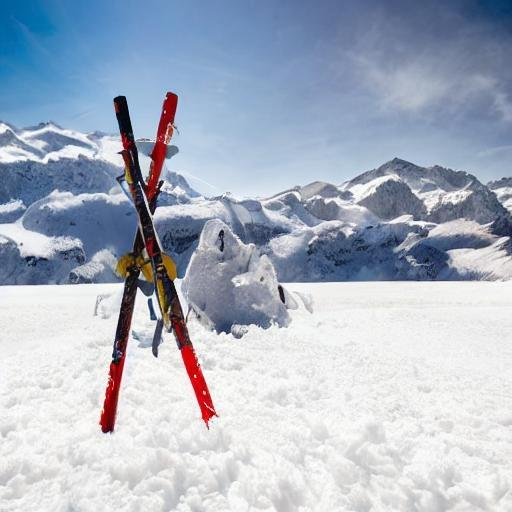Skis: (73, 56, 240, 444)
